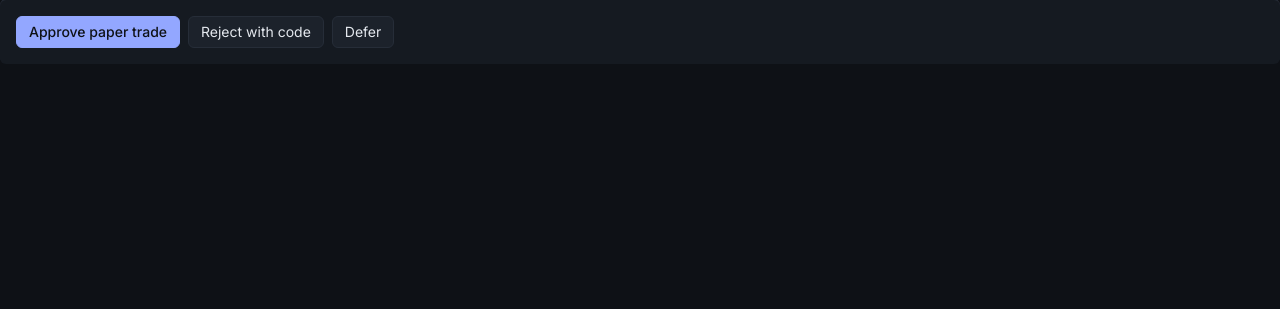
Test: decision shortcuts › shortcuts are ignored while typing the reject reason
Click the button "Reject with code" at (256, 32), box [188,16,324,48]
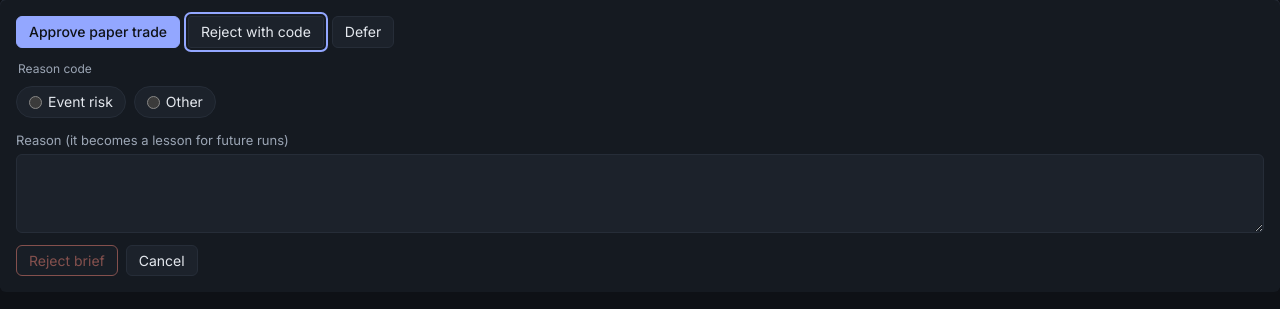
Click the text box labelled "Reason (it becomes a lesson for future runs)" at (640, 193), box [16,154,1264,232]
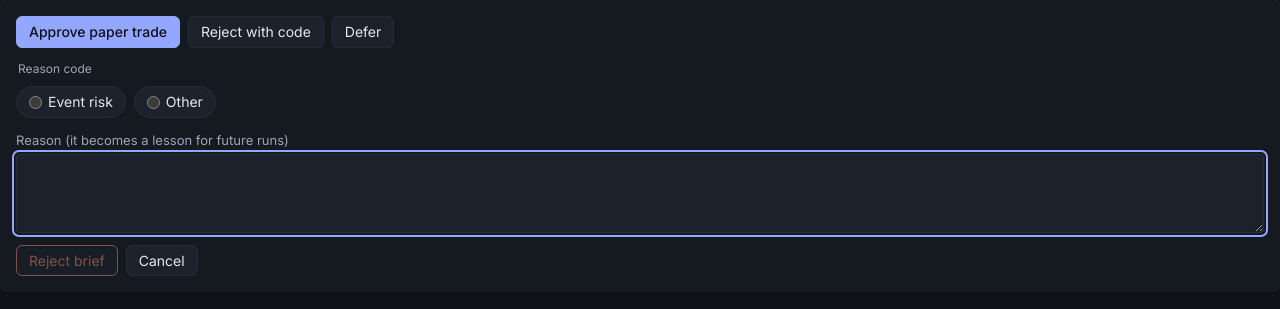
Type keys "bad data"
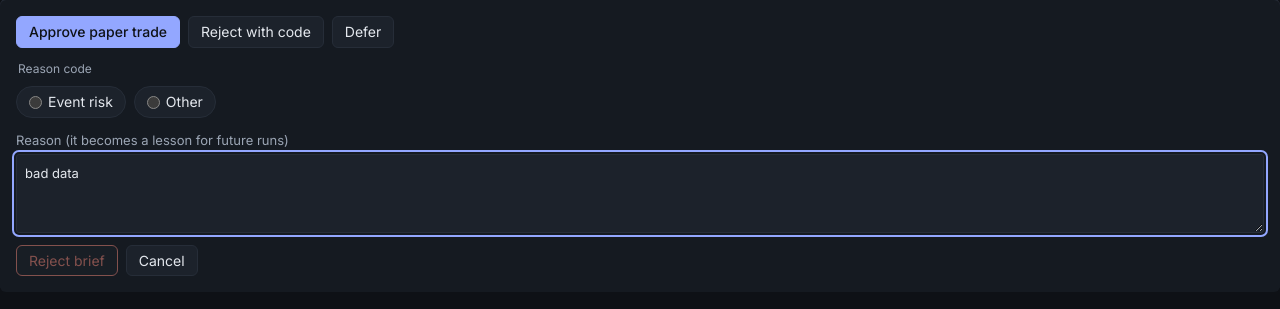
Expected: the text box labelled "Reason (it becomes a lesson for future runs)" holds "bad data", [16,154,1264,232]
